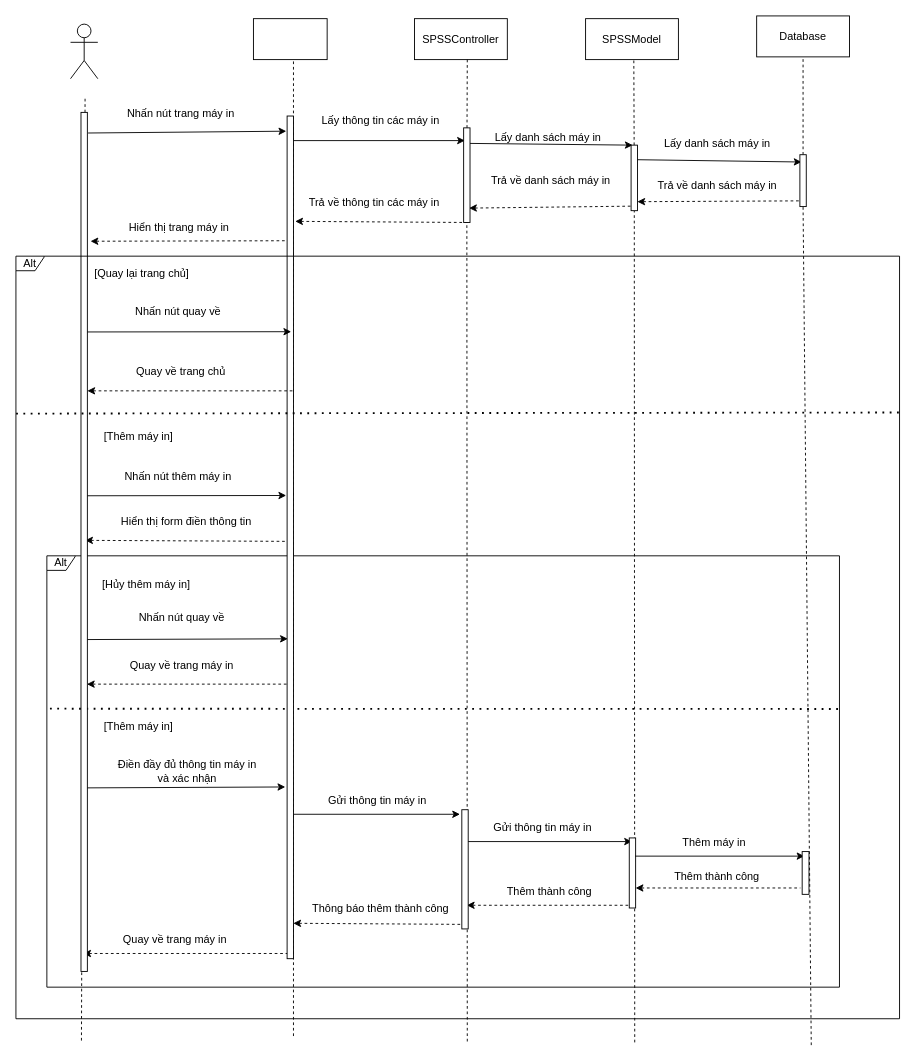
Image size: 918x1062. Some labels were removed from this diagram. The shapes that lost their labels are listed below. From the top down, each one's centre as x and y in pixels, then its label:
At [84,51]: "SPSO".
At [290,39]: "SPSOView".
